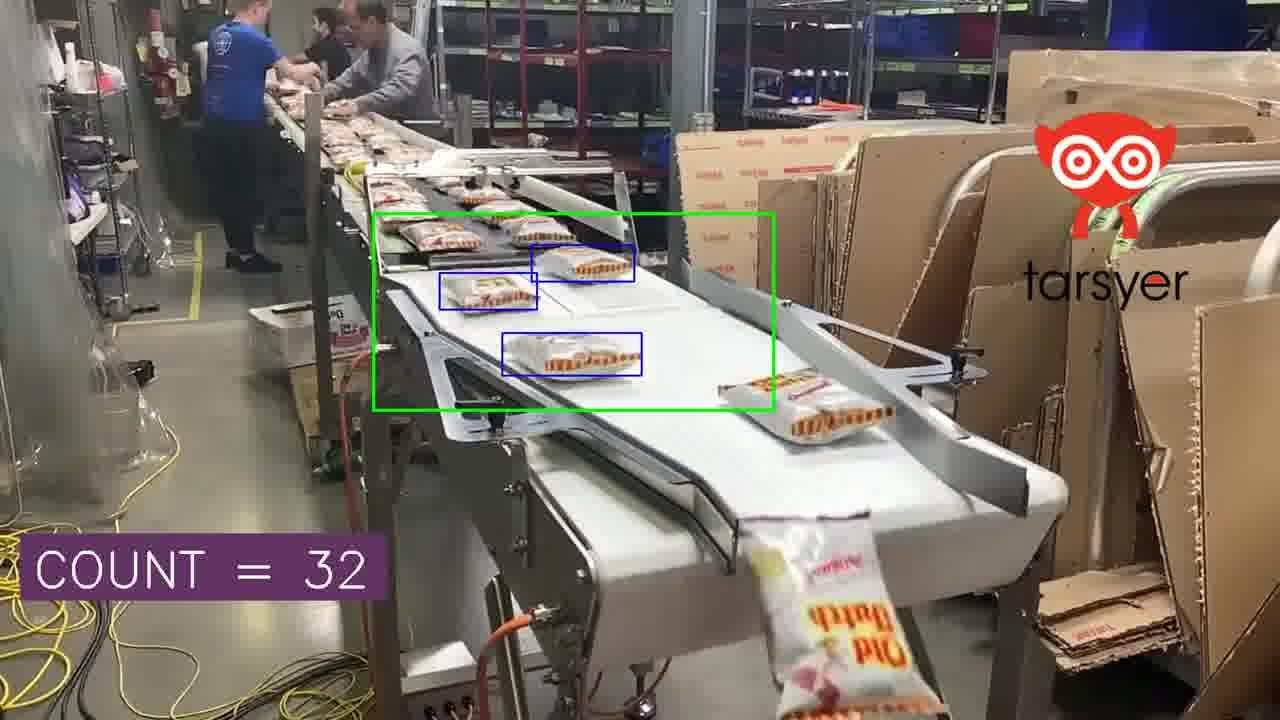Snack: (743, 515, 946, 719), (719, 369, 894, 444), (504, 334, 640, 377), (440, 273, 535, 310), (535, 246, 633, 281), (368, 178, 437, 226), (399, 220, 483, 252), (503, 216, 575, 247), (368, 177, 424, 208), (471, 199, 534, 226), (370, 140, 431, 165), (326, 145, 372, 169), (458, 185, 508, 207), (357, 130, 403, 151), (346, 116, 385, 137), (428, 176, 463, 192)
